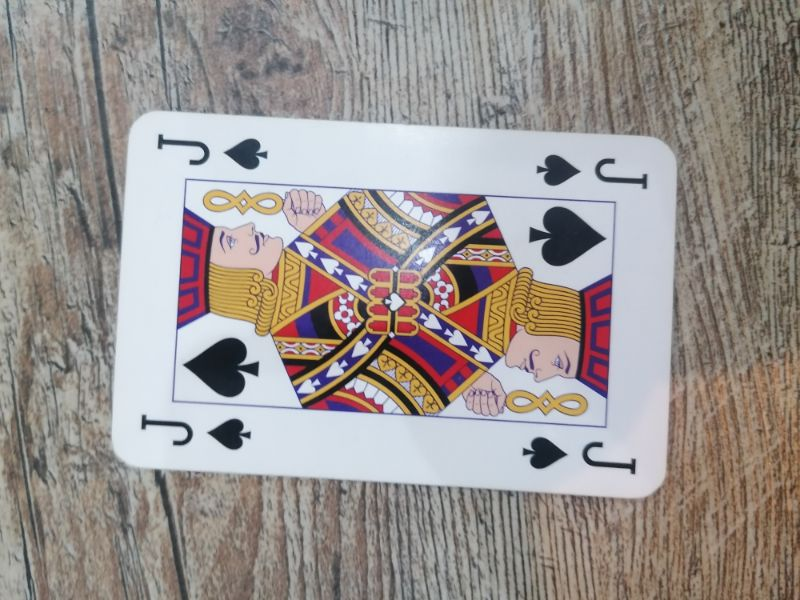Js: (517, 430, 642, 482), (530, 147, 654, 195), (154, 128, 272, 176), (138, 409, 256, 456)
